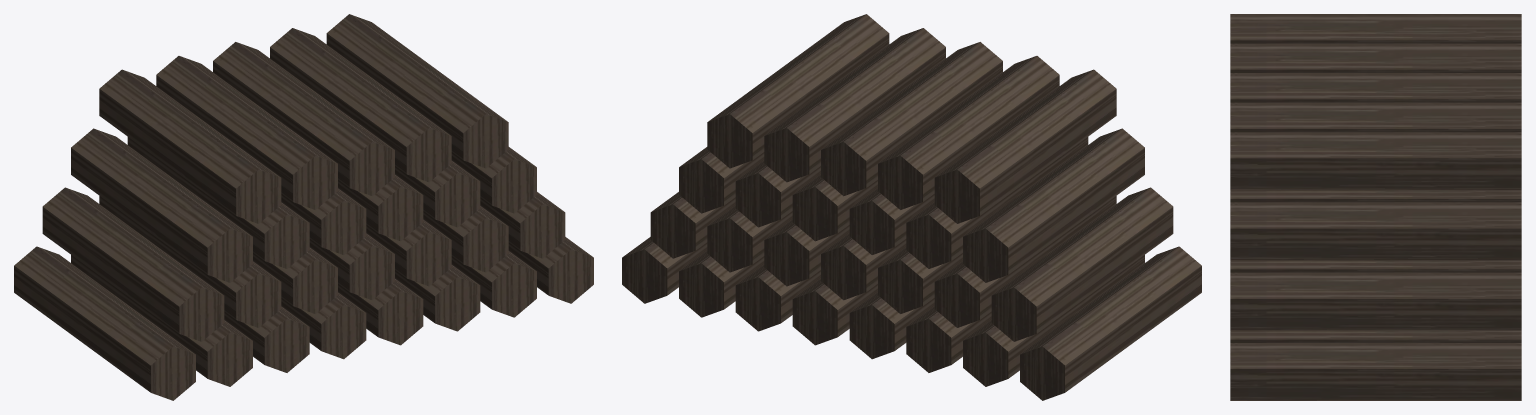
File: firewood_pile.glb
3 renders of one model, left to right at view 1: azimuth 30°, elevation 25°; view 2: azimuth 150°, elevation 25°; view 3: azimuth 270°, elevation 25°, orthographic. The views are drawn at different scales.
Visible parts, largest first — view 1: Firewood_Pile; view 2: Firewood_Pile; view 3: Firewood_Pile.
Boxes of the visible parts, bbox=[...] form: Firewood_Pile: bbox=[14, 14, 593, 400]; Firewood_Pile: bbox=[622, 14, 1201, 400]; Firewood_Pile: bbox=[1230, 14, 1521, 400].
Size of the model in its own units: 1.87 by 0.8499 by 1.
Materials: 1 (1 with a texture image).
